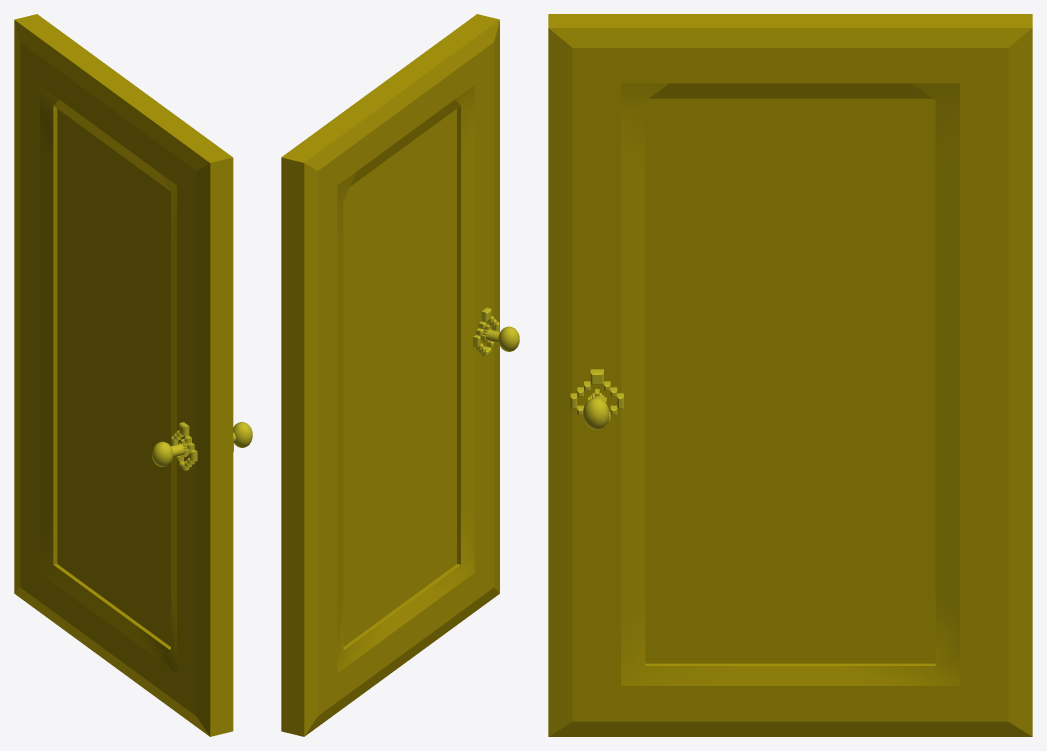
Rendered from door.fbx.
3 renders of one model, left to right at view 1: azimuth 30°, elevation 25°; view 2: azimuth 150°, elevation 25°; view 3: azimuth 270°, elevation 25°, orthographic. The views are drawn at different scales.
Parts seen in each view (by area): view 1: pCube1, pPlane2, pSphere2, pSphere1; view 2: pCube1, pPlane2, pSphere2; view 3: pCube1, pPlane1.
Part boxes in pixels (x1=…): pCube1: x1=14, y1=14, x2=233, y2=736; pPlane2: x1=171, y1=422, x2=197, y2=470; pSphere2: x1=152, y1=441, x2=173, y2=466; pSphere1: x1=233, y1=422, x2=252, y2=447; pCube1: x1=281, y1=14, x2=499, y2=736; pPlane2: x1=473, y1=307, x2=499, y2=356; pSphere2: x1=498, y1=326, x2=519, y2=351; pCube1: x1=548, y1=14, x2=1032, y2=736; pPlane1: x1=570, y1=369, x2=623, y2=420.
Bounding box in the file's own units: 2.11 × 11.79 × 7.29.
